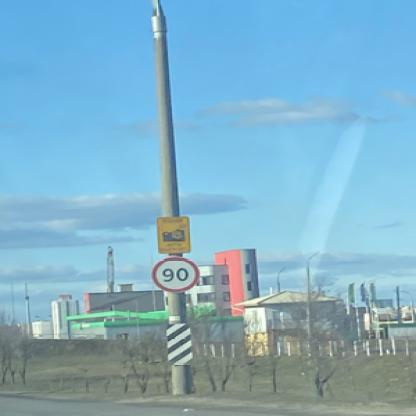Speed Limit 90: (150, 257, 200, 292)
